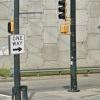Traffic light: (49, 1, 84, 36)
